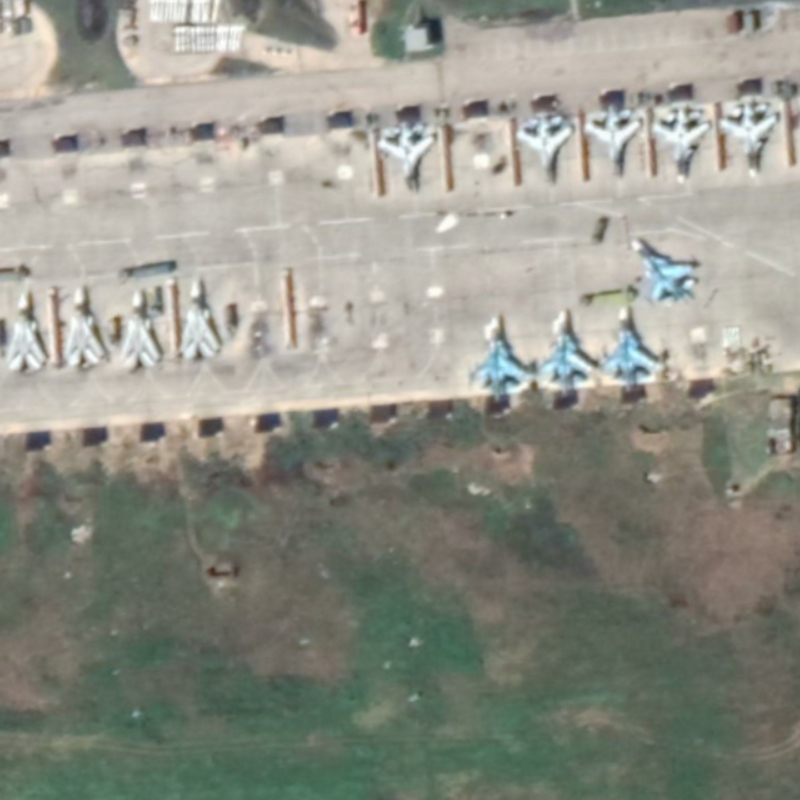A1: (376, 120, 438, 195), (584, 101, 642, 181), (515, 111, 576, 184)
A19: (598, 302, 667, 395), (467, 312, 537, 403), (537, 306, 596, 399), (627, 234, 700, 307), (651, 104, 714, 186), (720, 101, 780, 180)
A20: (62, 284, 107, 369), (178, 278, 222, 361), (5, 290, 49, 373), (118, 288, 162, 370)
